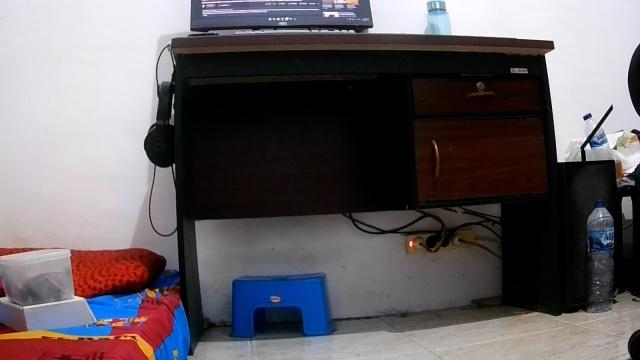AIO PC-Monitor-TV: (188, 0, 374, 31)
Meja: (169, 33, 563, 353)
